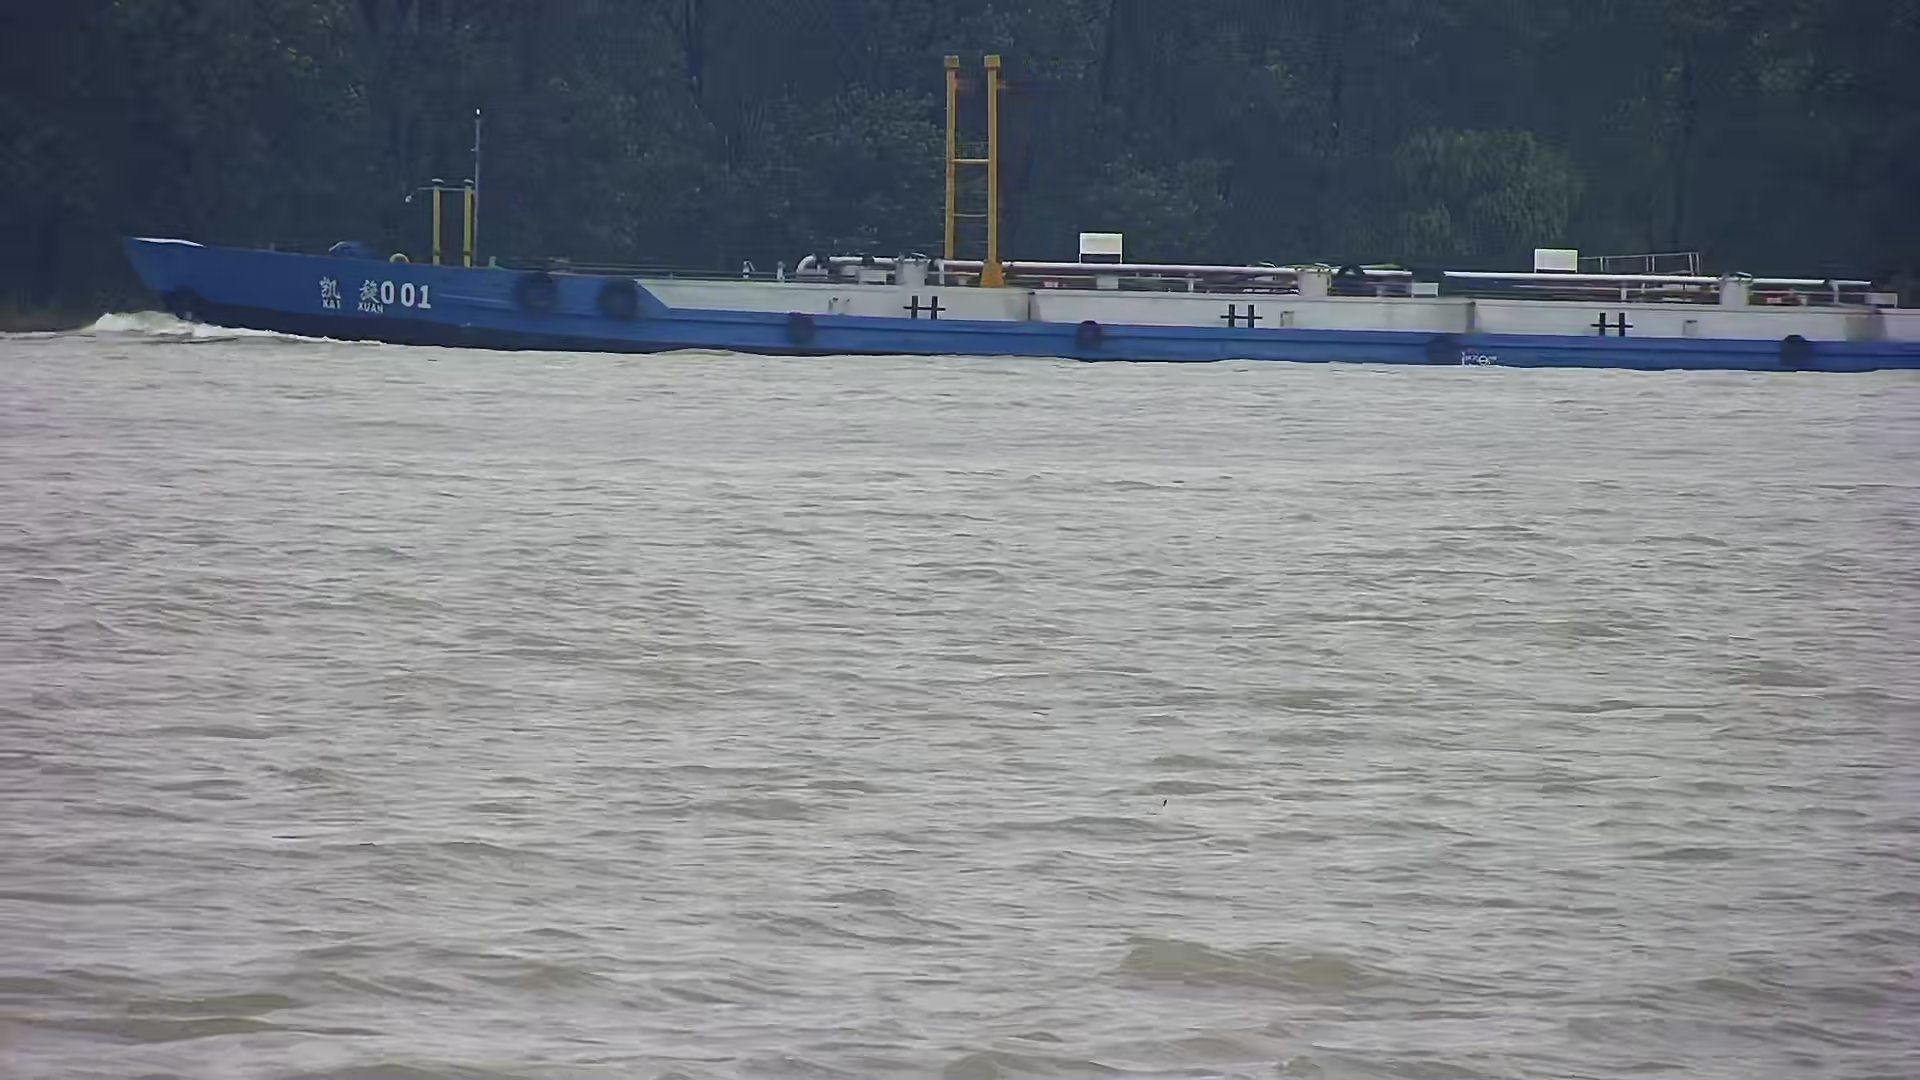ship: (119, 50, 1919, 382)
